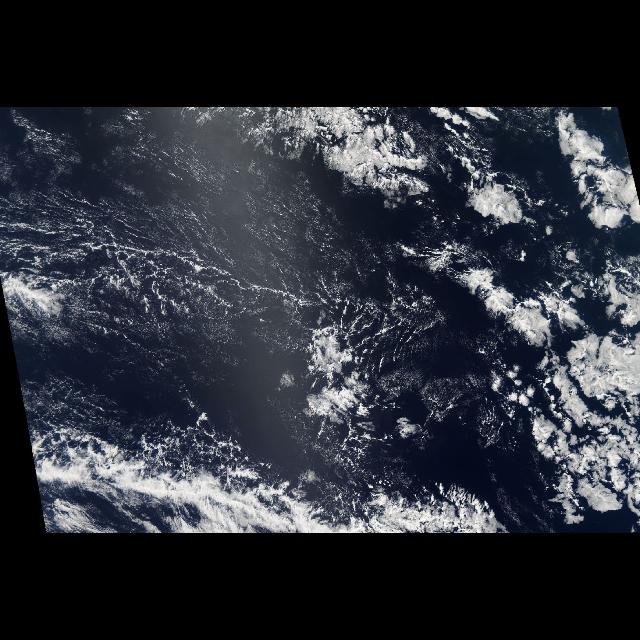Fish: (10, 213, 468, 432)
